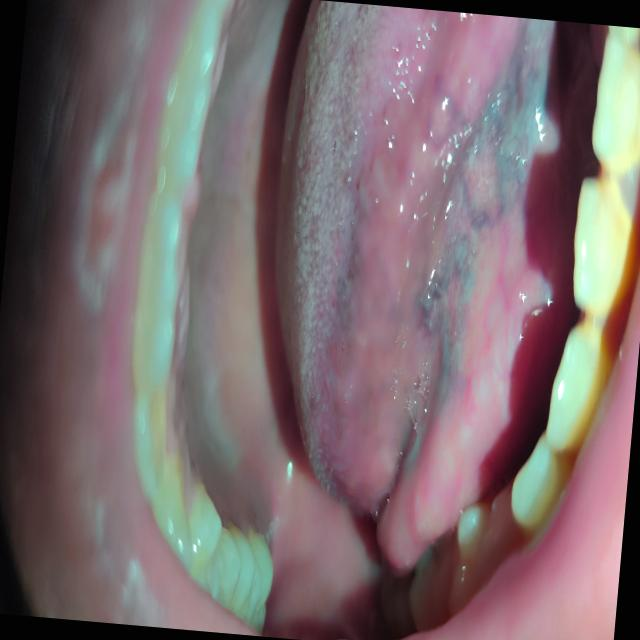No Cancer: (336, 105, 560, 624)
